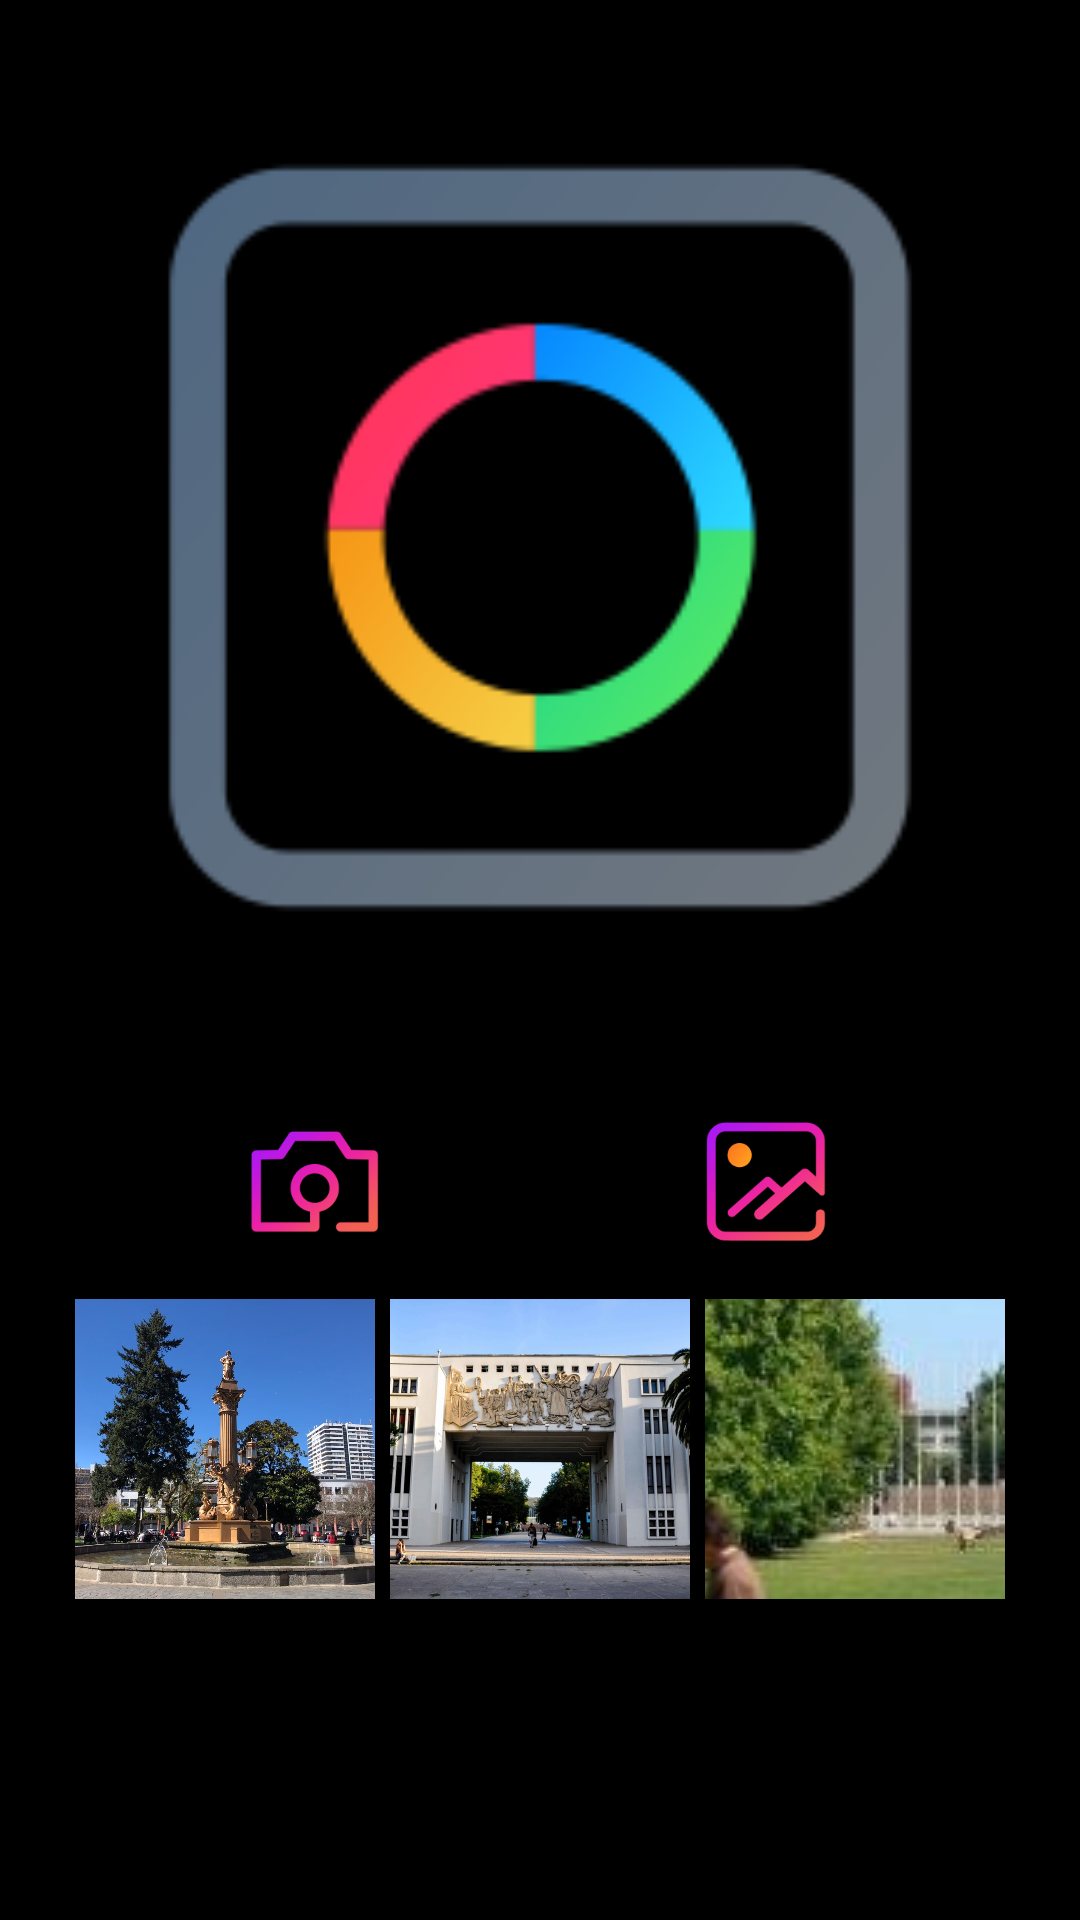

Locate icon controls on the screen. Image size 1080px x 1920px, boxes as Rect(x1, y1, x2, y2).
arco: Rect(390, 1299, 690, 1599)
camera: Rect(251, 1131, 378, 1232)
gallery: Rect(706, 1122, 825, 1241)
pastos: Rect(705, 1299, 1005, 1599)
plaza: Rect(75, 1299, 375, 1599)
